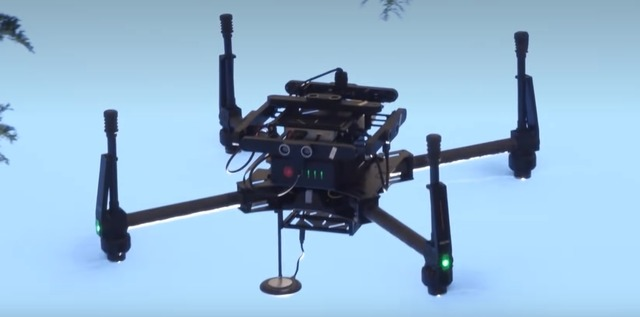drone: (94, 14, 540, 298)
